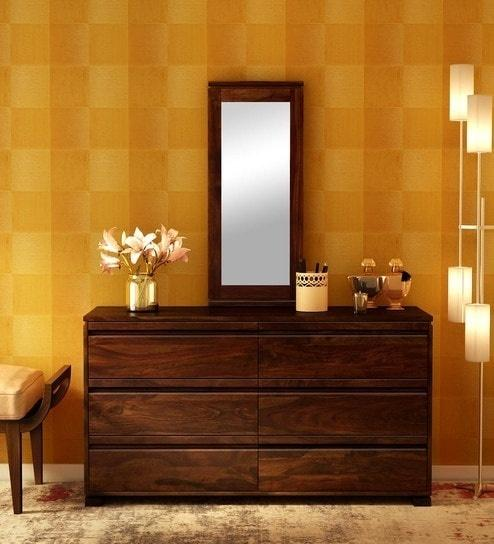cabinet_door: (260, 382, 425, 434), (260, 445, 425, 494), (261, 334, 428, 381), (87, 449, 256, 492), (94, 392, 257, 435), (92, 337, 254, 378)
